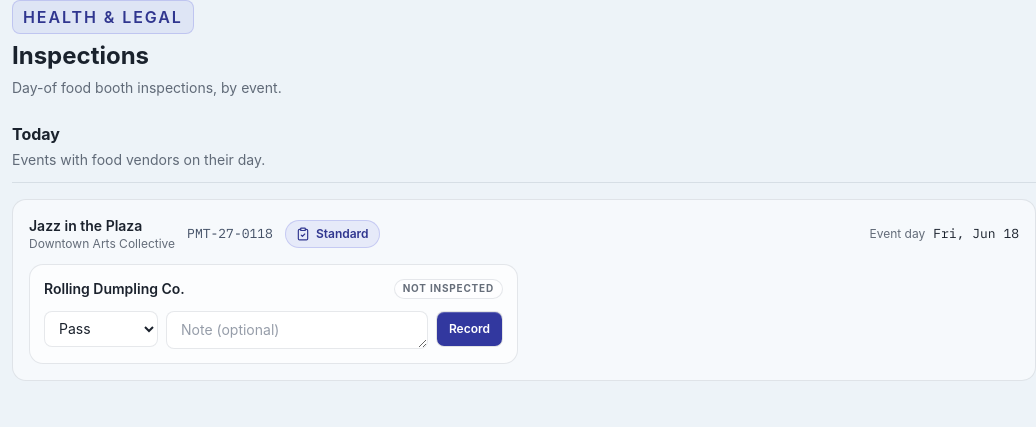
Test: Inspections › recording a pass writes the note and shows it
This screenshot has width=1036, height=427.
Type "Clean prep surfaces." into the text box with placeholder "Note (optional)" at (297, 330), box [166,311,428,349]
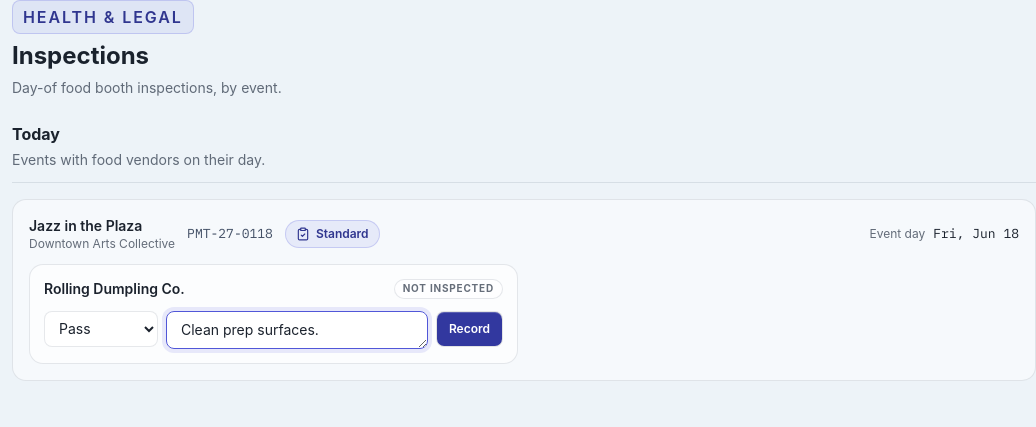
Click the button with aria-label "Record the result for " at (469, 329), box [436,311,503,347]
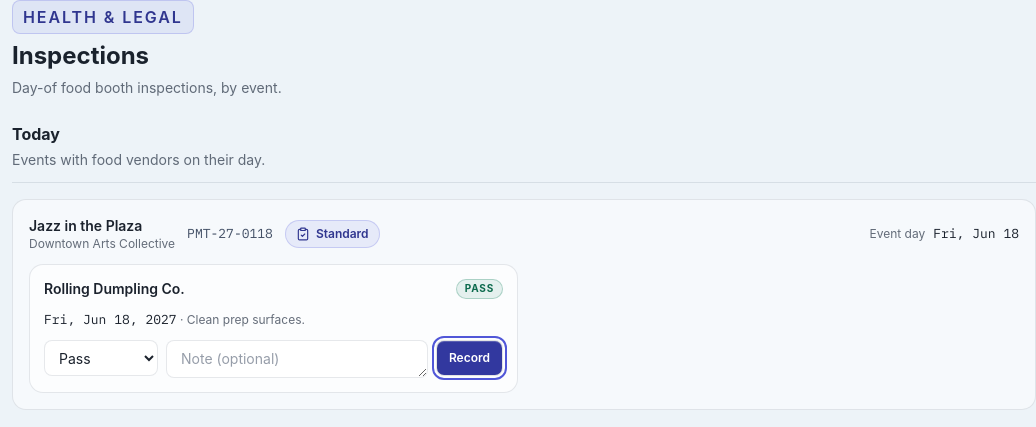
Result: the icon "Pass" is shown at [456,279,503,299]
Result: the text "Fri, Jun 18, 2027 · Clean prep surfaces." is shown at [44,311,305,328]
